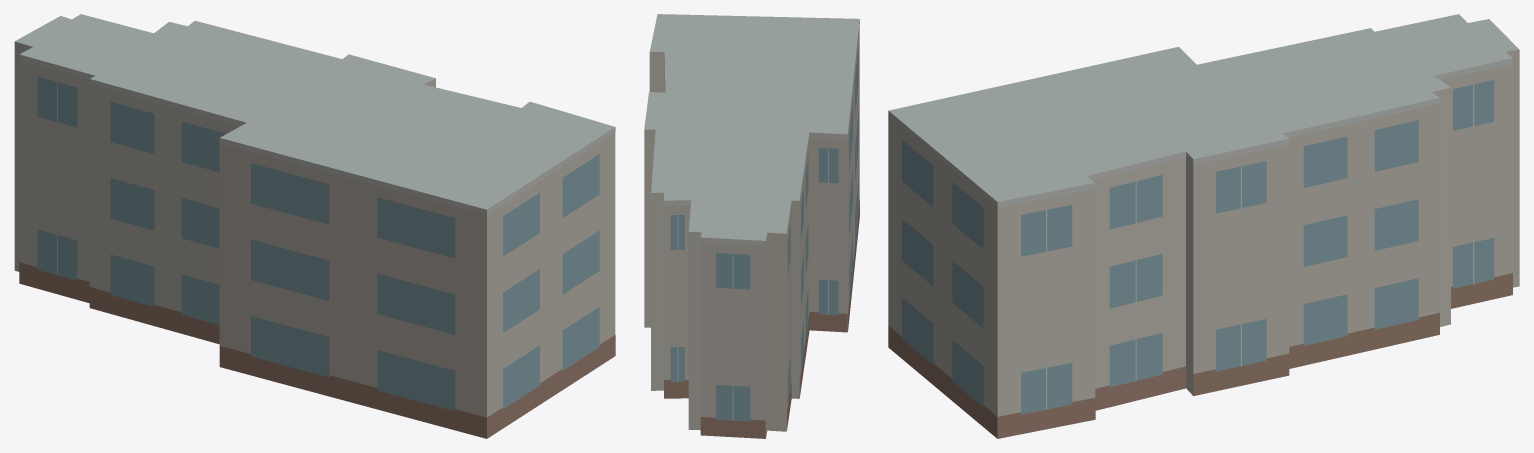
The model's file is survey-upis-32658935.glb.
3 renders of one model, left to right at view 1: azimuth 30°, elevation 25°; view 2: azimuth 150°, elevation 25°; view 3: azimuth 270°, elevation 25°, orthographic. The views are drawn at different scales.
Visible parts, largest first — view 1: survey-upis-32658935.tmp; view 2: survey-upis-32658935.tmp; view 3: survey-upis-32658935.tmp.
Boxes of the visible parts, x1,y1,x2,y2 form: survey-upis-32658935.tmp: (14,14,615,438); survey-upis-32658935.tmp: (644,14,859,438); survey-upis-32658935.tmp: (888,14,1519,438).
Bounding box in the file's own units: 17.37 × 10.2 × 24.64.
